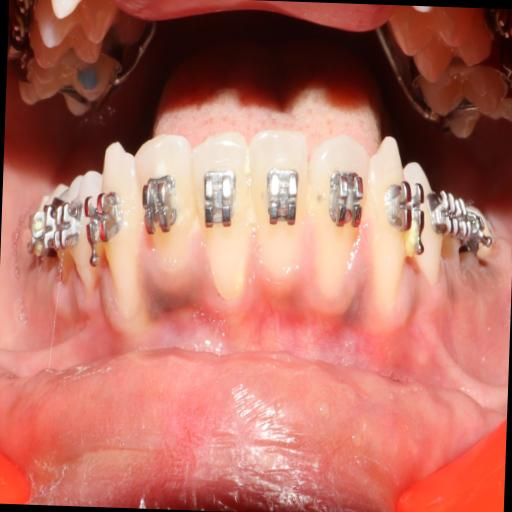correct_brace: (140, 164, 182, 250), (324, 168, 366, 236), (262, 164, 300, 232), (200, 166, 240, 229)
incorrect_brace: (302, 133, 369, 305), (126, 132, 194, 284)
